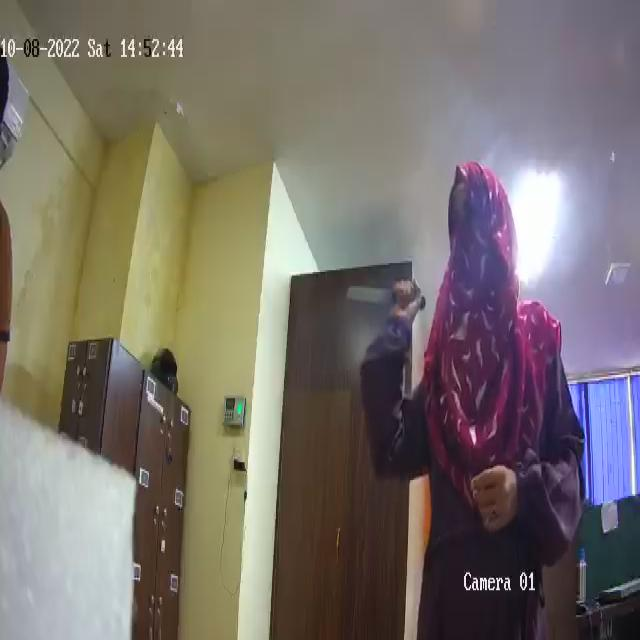Knife: (345, 279, 427, 317)
